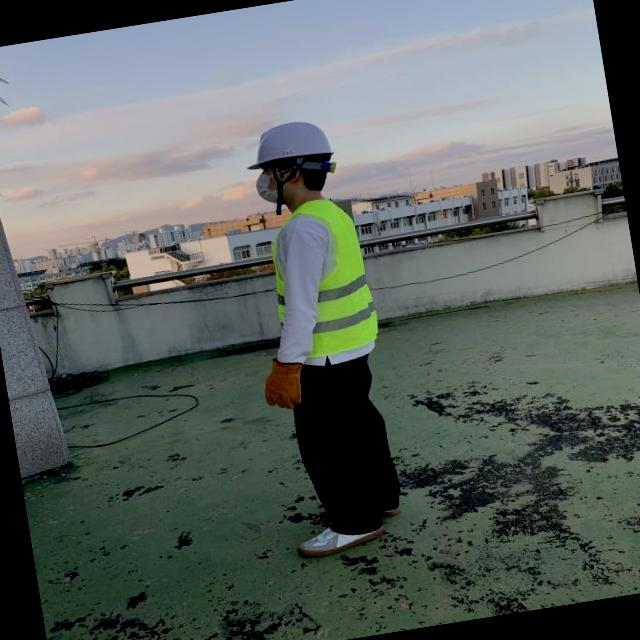vest: (261, 194, 382, 363)
